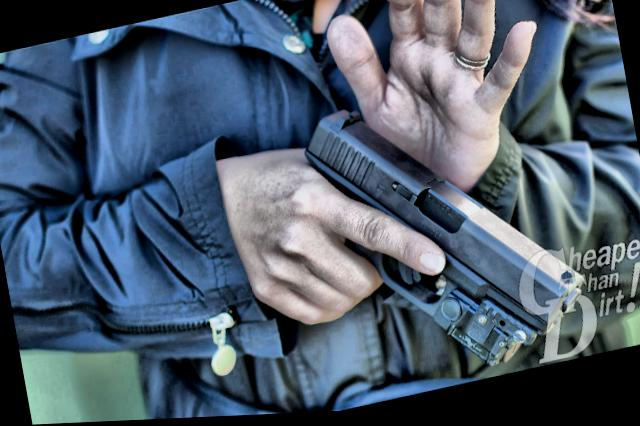pistol: (266, 66, 594, 411)
